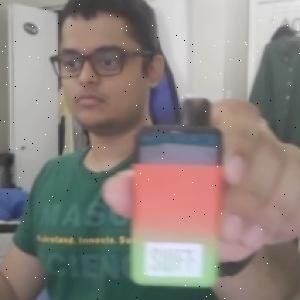Swift-E-Ciggirate: (116, 95, 231, 291)
